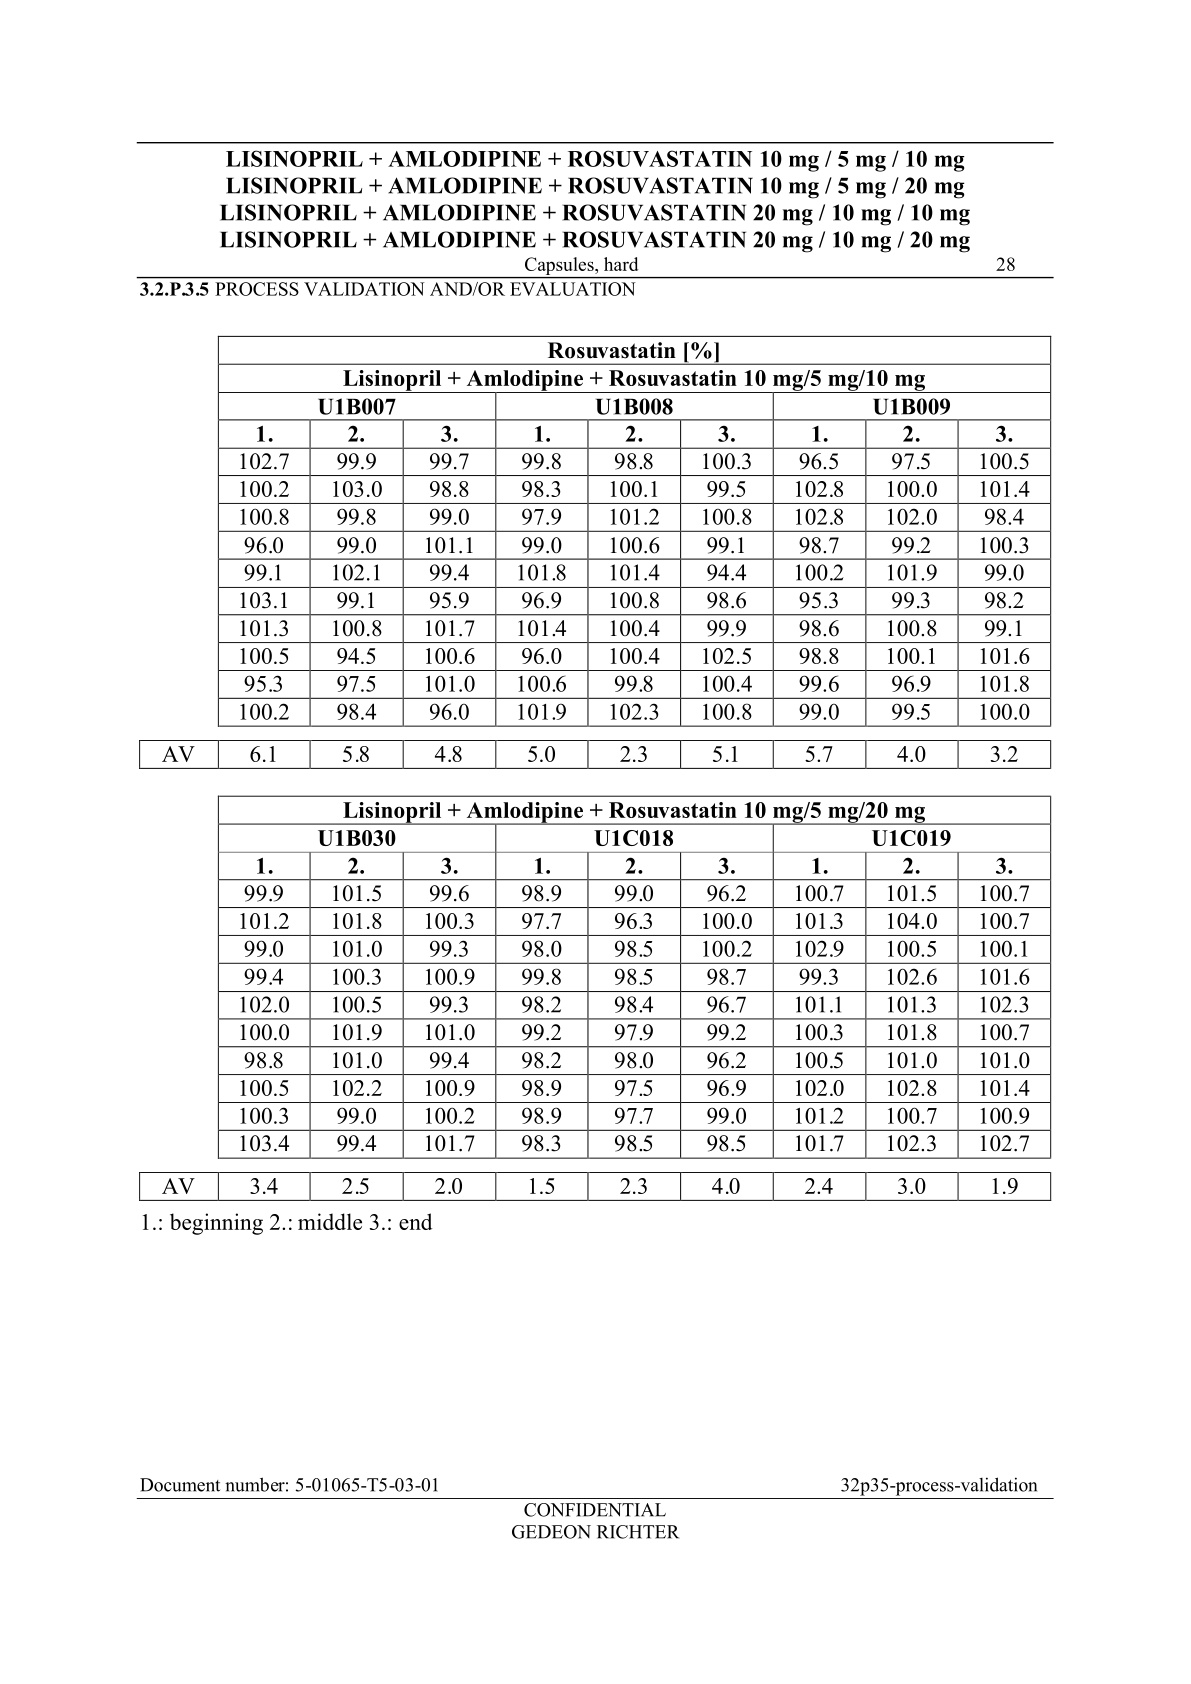full_lined: (138, 740, 1052, 769), (138, 1171, 1051, 1201)
merged_cells: (217, 334, 1051, 725), (217, 794, 1052, 1160)
